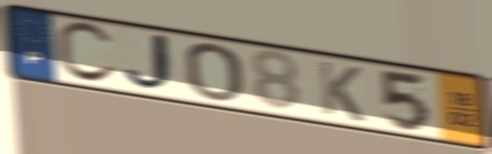5: (377, 68, 434, 134)
8: (248, 49, 309, 115)
C: (53, 20, 120, 85)
J: (121, 32, 182, 94)
K: (315, 58, 368, 125)
O: (182, 42, 245, 104)
